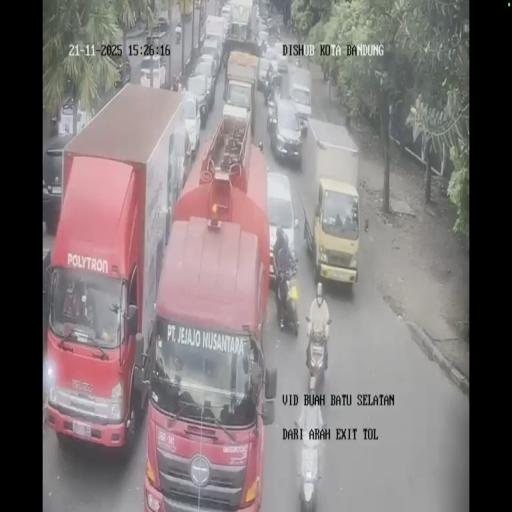3: (43, 82, 189, 456)
car: (266, 170, 298, 284), (41, 134, 78, 232), (268, 94, 304, 166), (222, 81, 254, 134), (185, 72, 211, 129), (200, 36, 222, 78), (140, 54, 166, 88), (257, 53, 278, 93), (274, 47, 289, 76), (266, 17, 281, 38), (256, 24, 269, 48), (220, 3, 232, 29), (156, 13, 170, 35)
truck: (276, 262, 300, 335), (305, 326, 329, 391)
